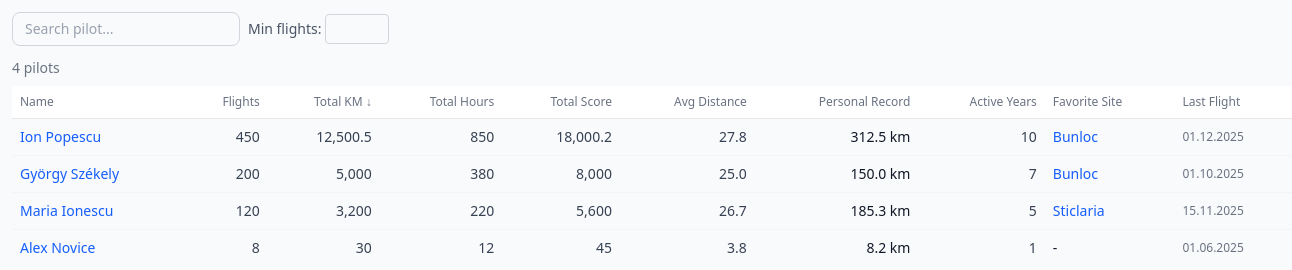
Scenario: PilotsTable › filters pilots by name ignoring diacritics
In the field with placeholder "Search pilot...": (126, 29) [12, 12, 240, 46], type "Szekely"
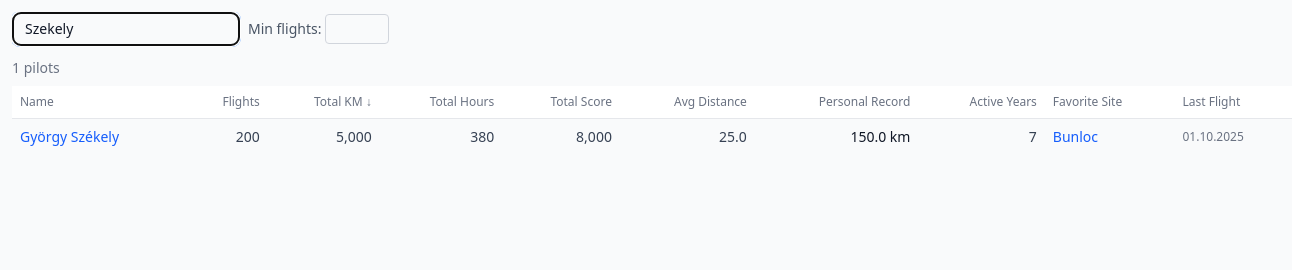
Expected: the link "György Székely" is shown, [20, 127, 119, 146]
Expected: the link "Ion Popescu" is gone
Expected: the link "Maria Ionescu" is gone
